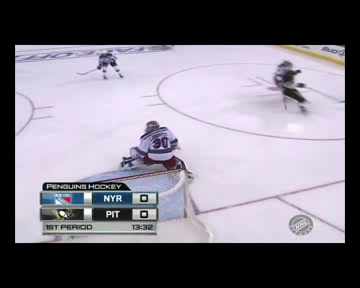normal: (117, 118, 196, 172), (268, 56, 319, 116)
